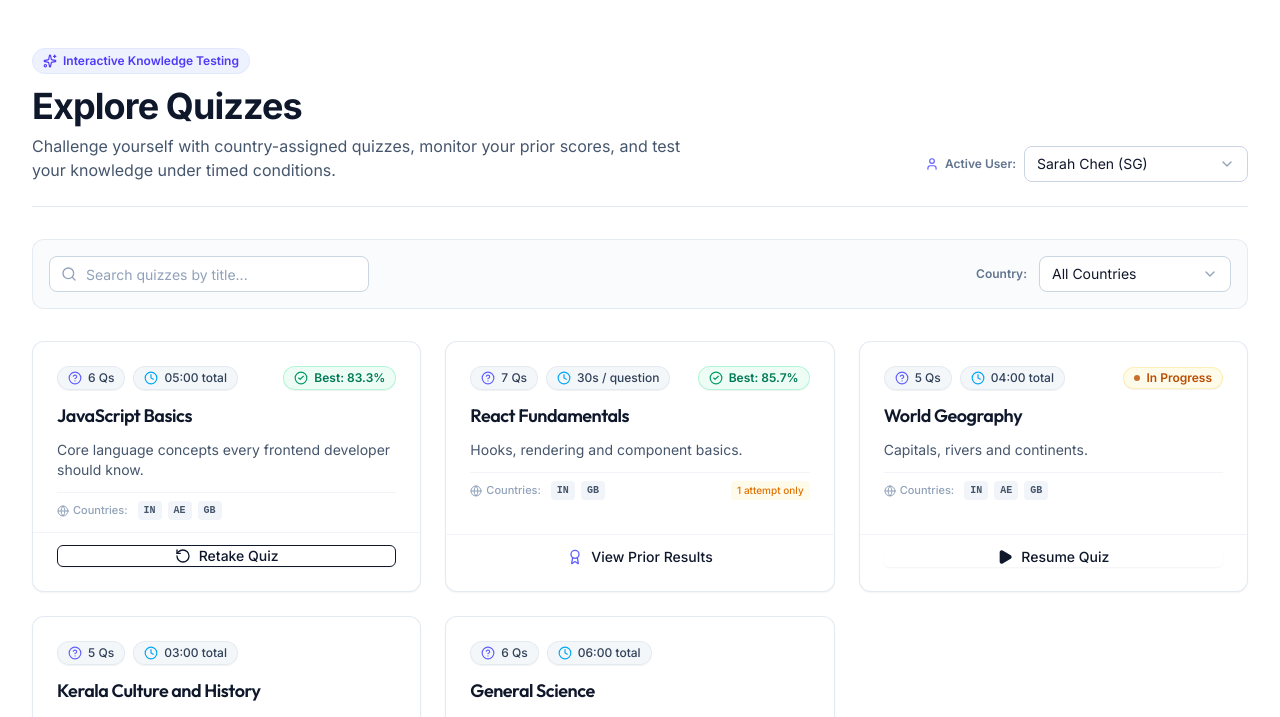
QuizListPage (Task 39) › renders quizzes and filters by search text
The width and height of the screenshot is (1280, 717).
expect the heading "JavaScript Basics" is shown: met, box top-left (57, 404), bottom-right (192, 427)
Type "React" into the search field labelled "Search quizzes by title..." at [209, 274], box top-left (49, 256), bottom-right (369, 292)
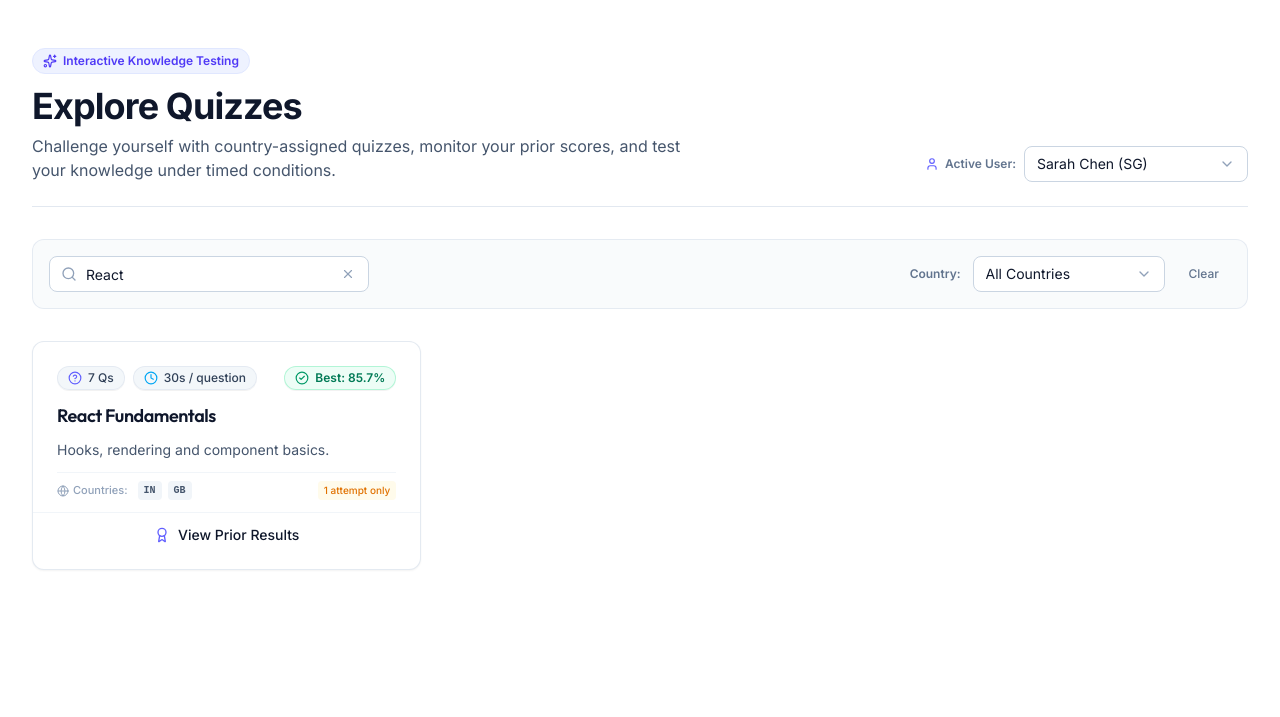
expect the heading "React Fundamentals" is shown: met, box top-left (57, 404), bottom-right (216, 427)
expect the heading "JavaScript Basics" is gone: met
